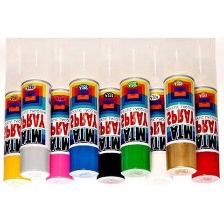aerosol_cans: (16, 77, 55, 182), (141, 85, 179, 188), (162, 71, 198, 179), (64, 76, 101, 180), (0, 88, 37, 191), (185, 83, 222, 185), (117, 74, 152, 180), (41, 85, 77, 187), (92, 85, 127, 188)
